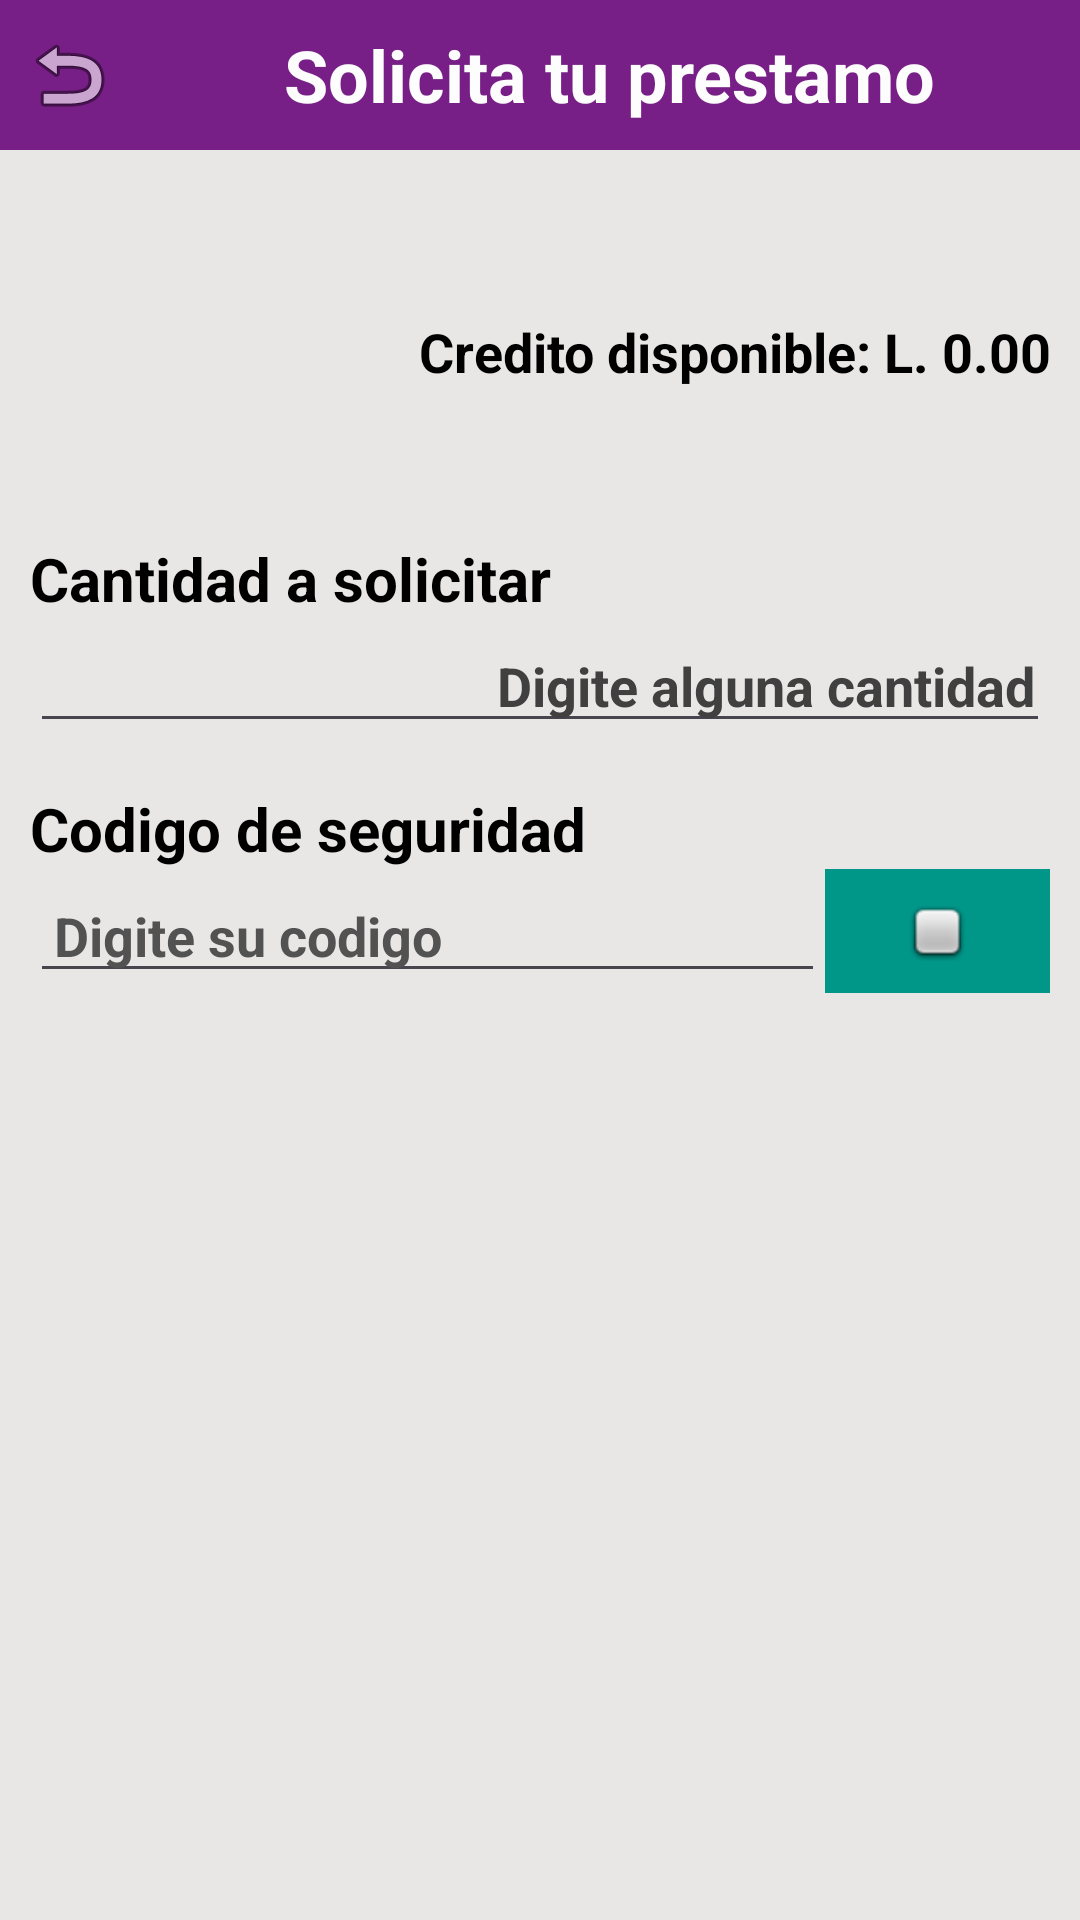

Locate icon controls on the screen. Image size 1080 x 1920, boxes as [x1=x1, y1=y1, x2=x2, y2=y2].
revert: [x1=36, y1=45, x2=105, y2=107]
